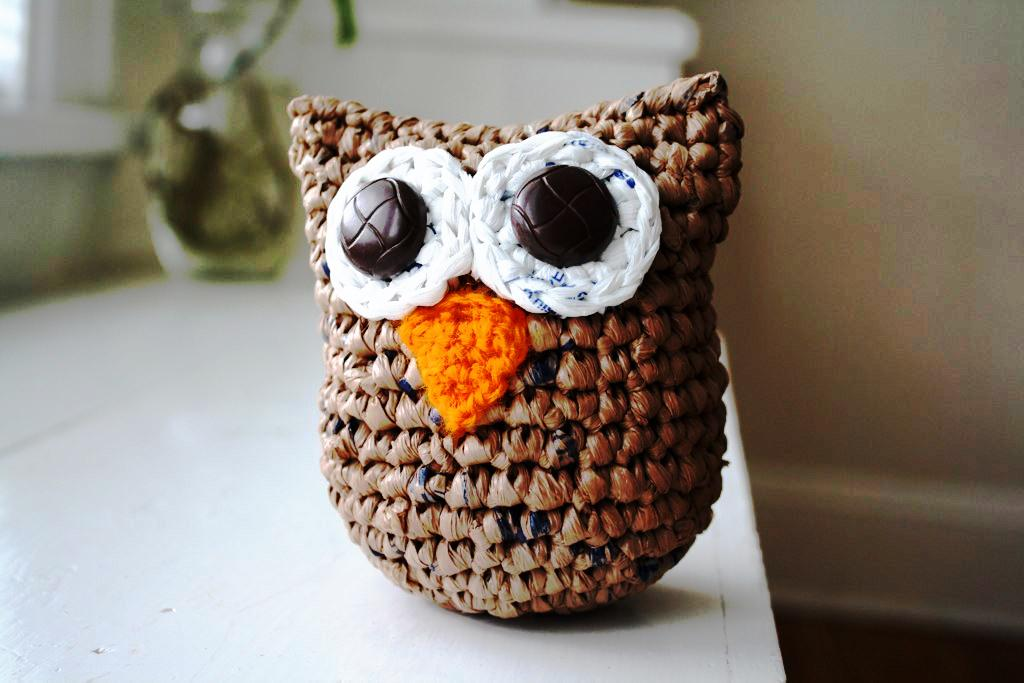Owl: (280, 69, 746, 625)
